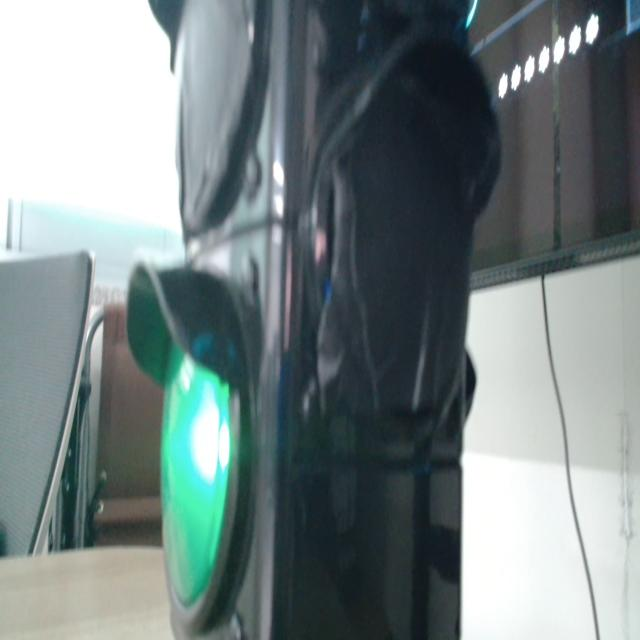green_light: (161, 347, 233, 606)
